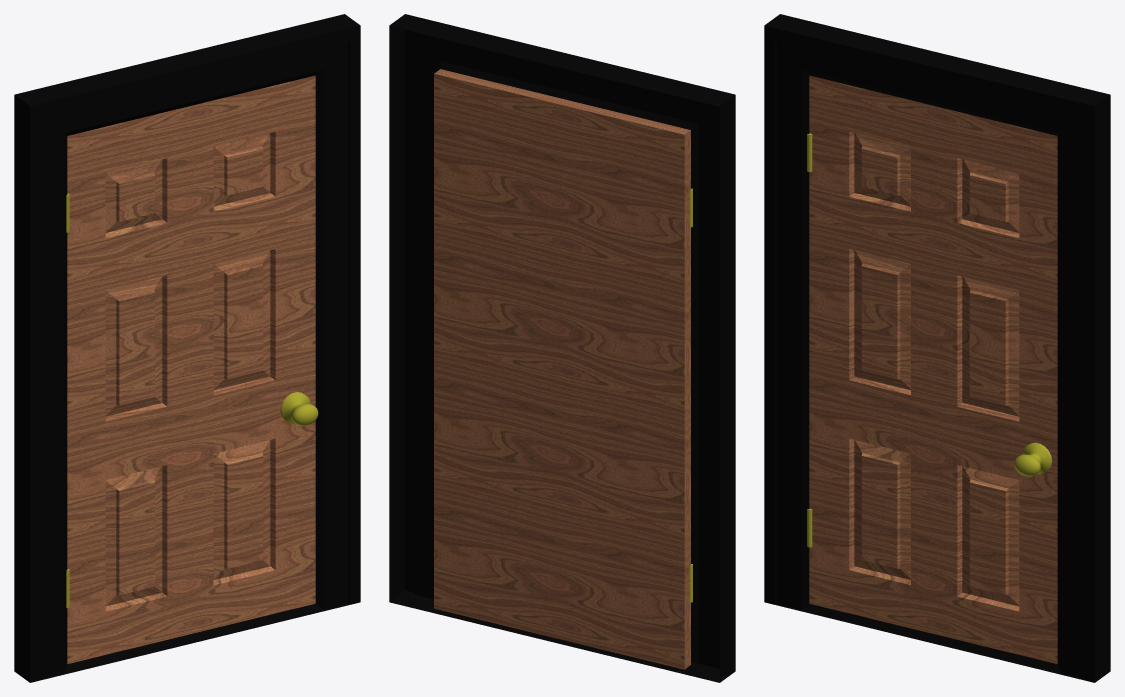
File: door_open_animation.FBX
3 renders of one model, left to right at view 1: azimuth 30°, elevation 25°; view 2: azimuth 150°, elevation 25°; view 3: azimuth 330°, elevation 25°, orthographic.
Visible parts, largest first — view 1: Box002, Box001, Cylinder003; view 2: Box002, Box001; view 3: Box002, Box001, Cylinder003.
Boxes of the visible parts, left/top/right/bottom form: Box002: left=67, top=75, right=315, bottom=663; Box001: left=14, top=14, right=360, bottom=682; Cylinder003: left=280, top=392, right=318, bottom=425; Box002: left=434, top=69, right=690, bottom=669; Box001: left=389, top=14, right=735, bottom=682; Box002: left=809, top=75, right=1057, bottom=663; Box001: left=764, top=14, right=1110, bottom=682; Cylinder003: left=1014, top=442, right=1052, bottom=476.
Size of the model in its own units: 60 by 100 by 8.32.
3 materials, 1 textured.
